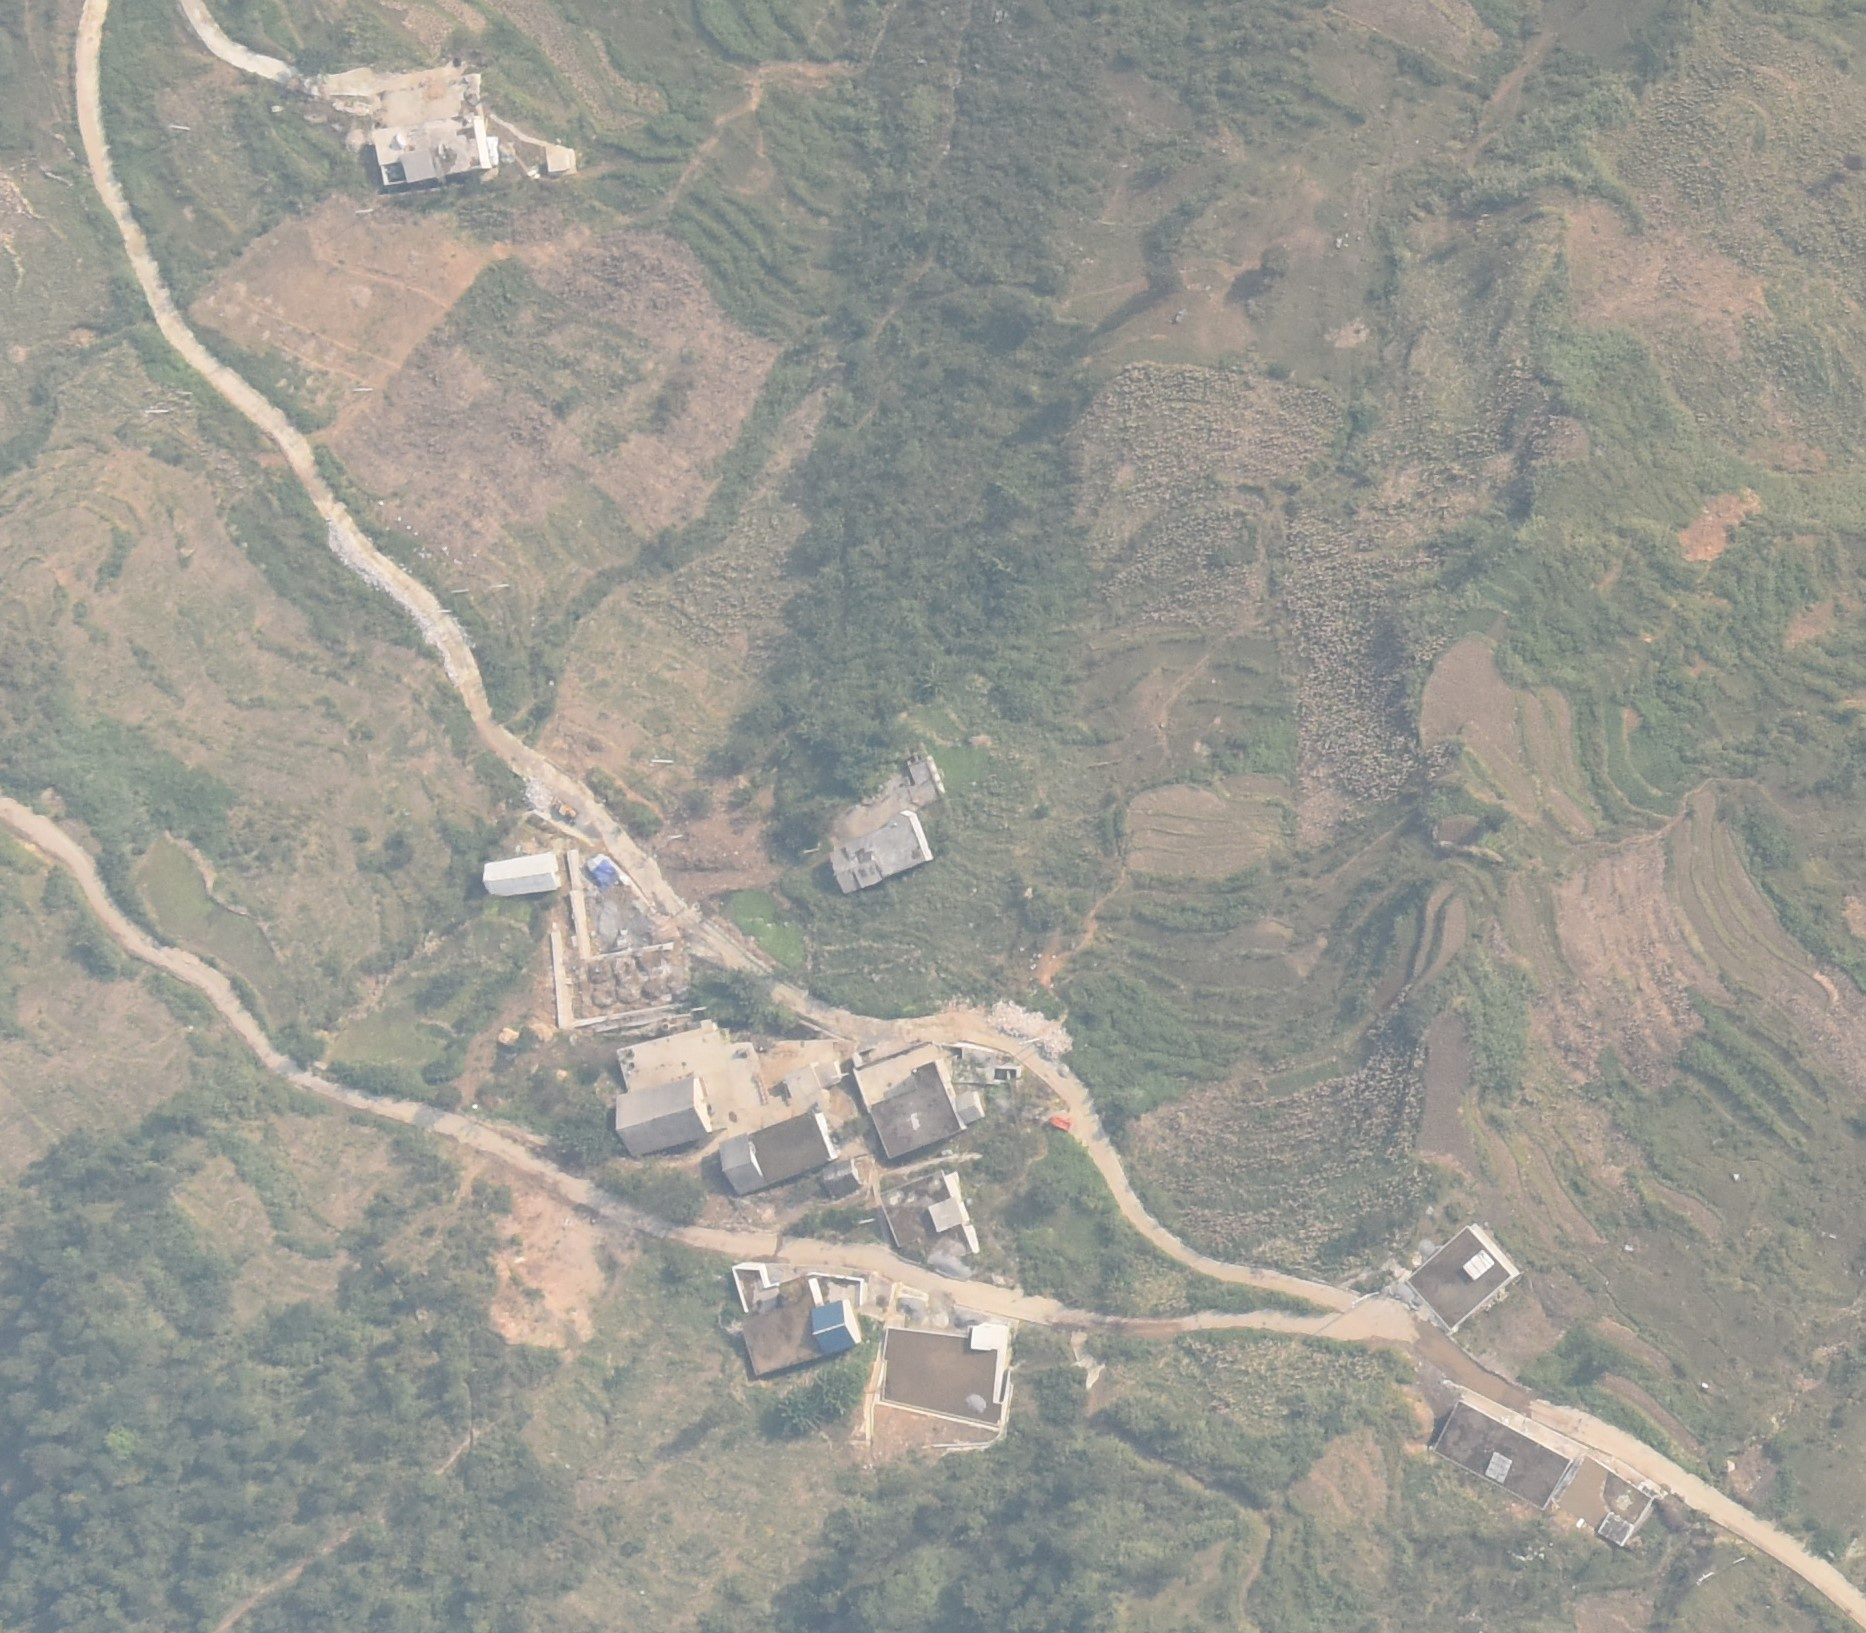building: (725, 1255, 867, 1385), (873, 1314, 1030, 1430), (844, 1042, 992, 1161), (1430, 1393, 1577, 1508), (1402, 1218, 1528, 1340), (876, 1164, 988, 1282), (1546, 1449, 1660, 1554), (367, 113, 508, 190), (715, 1116, 845, 1198), (822, 810, 939, 897), (613, 1078, 715, 1159), (815, 1161, 869, 1205)
prefabricated-house: (474, 848, 566, 907)
